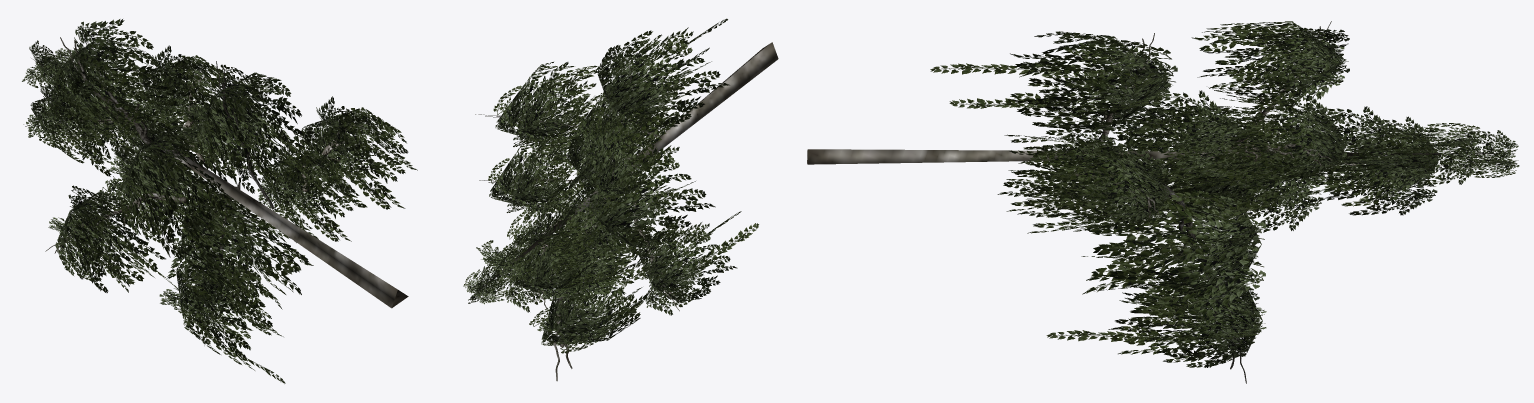
File: MEP_Birch_01_f_LOD_01.fbx
3 views of the same model, side by side, from view 1: azimuth 30°, elevation 25°; view 2: azimuth 150°, elevation 25°; view 3: azimuth 270°, elevation 25° (orthographic). The views are drawn at different scales.
Parts seen in each view (by area): view 1: MEP_Birch_01_f_LOD_01; view 2: MEP_Birch_01_f_LOD_01; view 3: MEP_Birch_01_f_LOD_01.
Part boxes in pixels (x1,y1,x2,y2): MEP_Birch_01_f_LOD_01: (22,19,417,383); MEP_Birch_01_f_LOD_01: (463,18,778,381); MEP_Birch_01_f_LOD_01: (807,21,1519,383).
Bounding box in the file's own units: 10.28 × 11.17 × 20.65.
